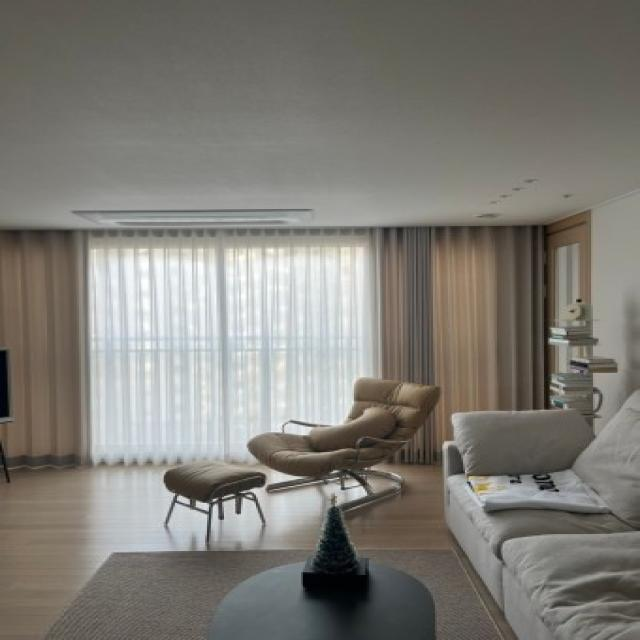Chair: (262, 372, 444, 508)
Sofa: (448, 384, 640, 640)
Table: (207, 554, 456, 640)
window: (16, 226, 549, 405)
